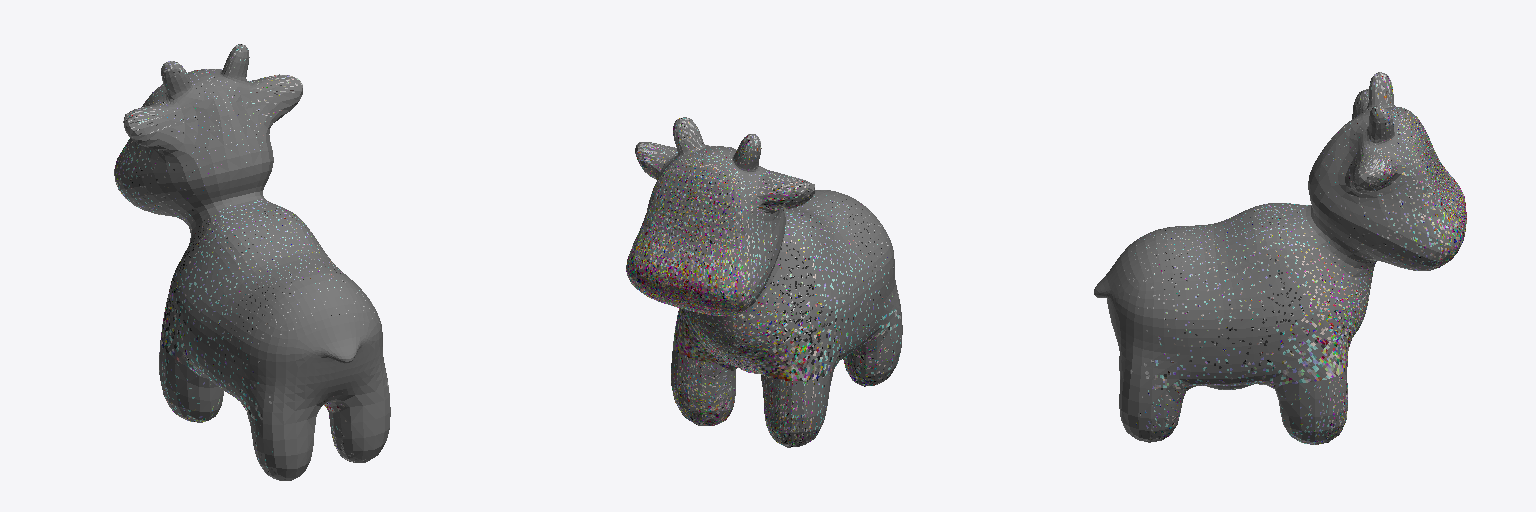
The picture shows the model from 3 angles: view 1: azimuth 30°, elevation 25°; view 2: azimuth 150°, elevation 25°; view 3: azimuth 270°, elevation 25°; orthographic projection.
Size of the model in its own units: 0.8132 by 1.46 by 1.48.
1 materials, 1 textured.